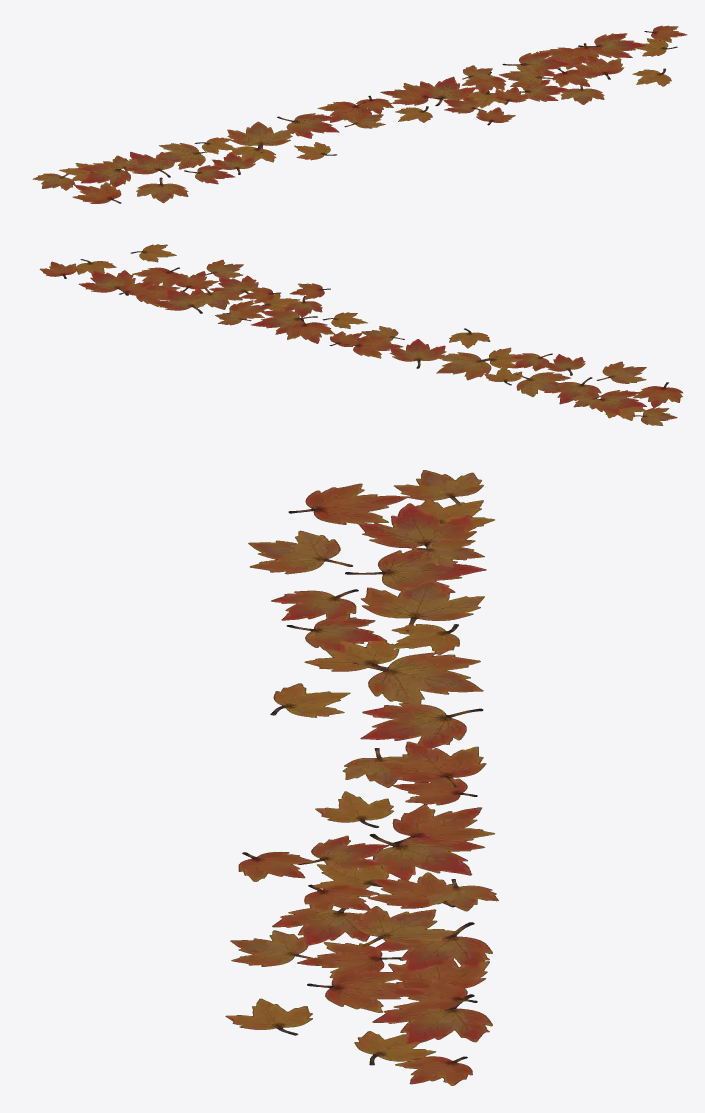
3 views of the same model, one above another, from view 1: azimuth 30°, elevation 25°; view 2: azimuth 150°, elevation 25°; view 3: azimuth 270°, elevation 25° (orthographic). The views are drawn at different scales.
Parts seen in each view (by area): view 1: SM_ScatteredLeaves_Maple_03_LOD0; view 2: SM_ScatteredLeaves_Maple_03_LOD0; view 3: SM_ScatteredLeaves_Maple_03_LOD0.
Part boxes in pixels (x1=…): SM_ScatteredLeaves_Maple_03_LOD0: x1=32, y1=25, x2=687, y2=203; SM_ScatteredLeaves_Maple_03_LOD0: x1=39, y1=244, x2=682, y2=425; SM_ScatteredLeaves_Maple_03_LOD0: x1=225, y1=470, x2=498, y2=1085.
Size of the model in its own units: 3.88 by 0 by 0.77.
Materials: 1 (1 with a texture image).
